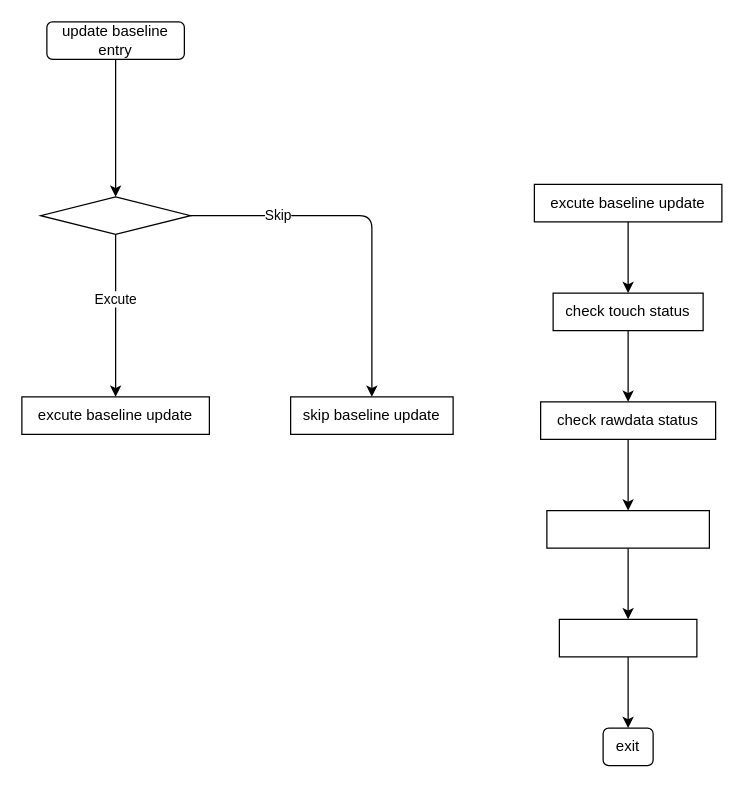
This 744x788 diagram has some shape labels left out. Each missing label, with the centre of its shape:
baseline controller: pixel 115 215
judge update status: pixel 627 528
update baseline: pixel 627 637
